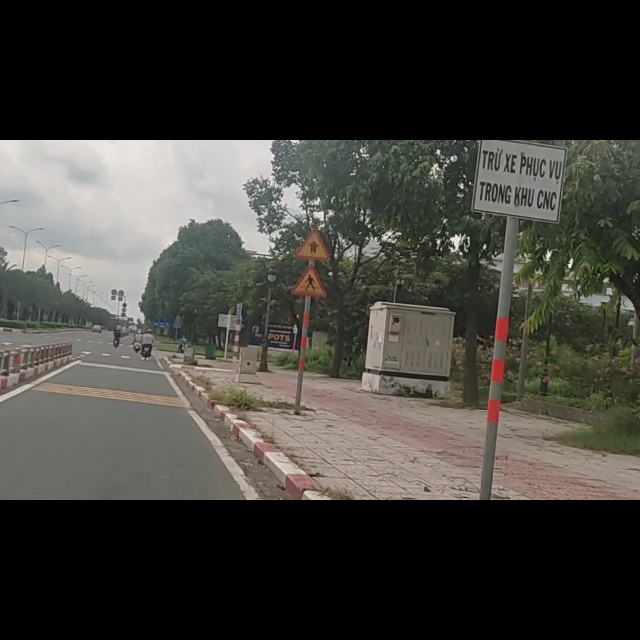bien_cam: (295, 154, 332, 217), (286, 223, 326, 280)
